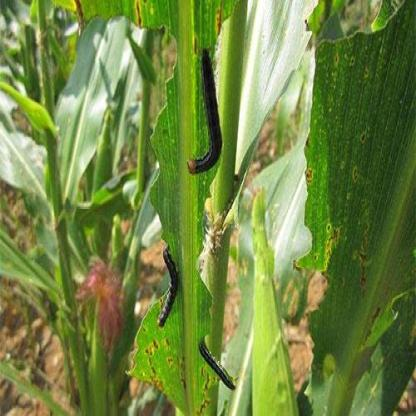armyworm: (188, 43, 224, 174), (195, 334, 235, 392), (159, 247, 179, 337)
